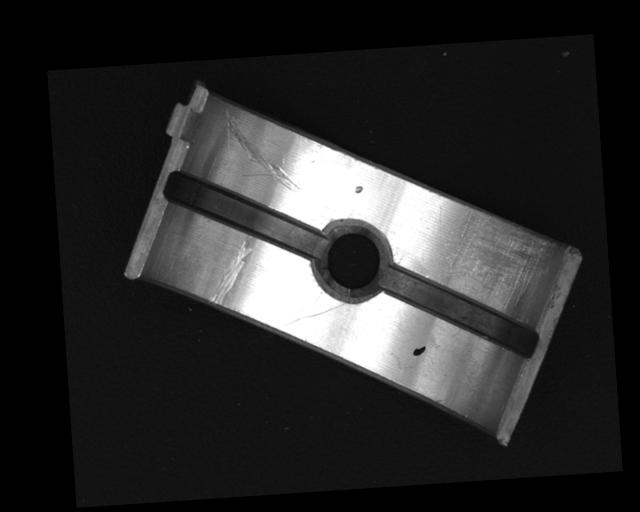blot: (411, 345, 427, 356)
bruise: (354, 185, 363, 195)
gap: (381, 259, 542, 367), (159, 163, 325, 266)
hole: (311, 219, 393, 305)
nick: (223, 103, 302, 196), (205, 235, 257, 306), (270, 302, 347, 329)
scratch: (440, 192, 561, 313)
